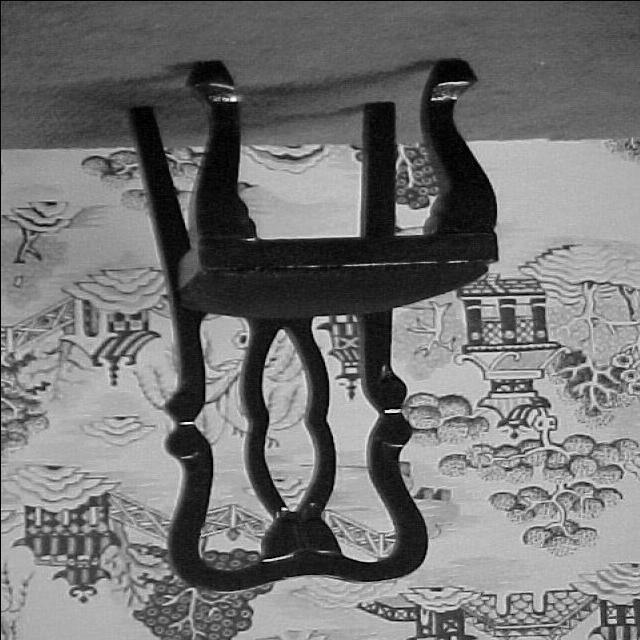chair: (122, 56, 504, 594)
